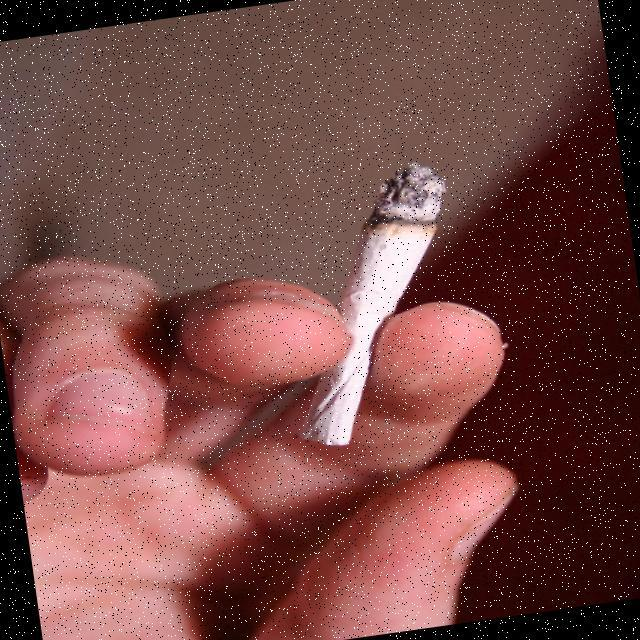cigarette: (308, 138, 484, 314)
